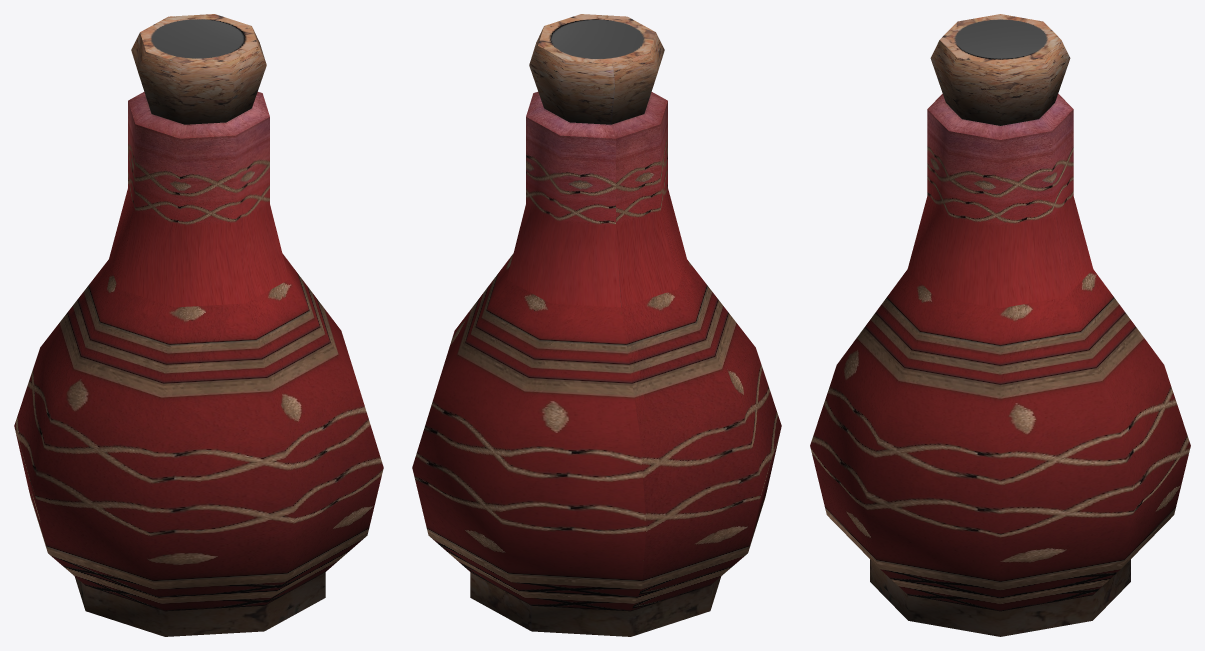
File: bottle_thumbnail.obj
3 views of the same model, side by side, from view 1: azimuth 30°, elevation 25°; view 2: azimuth 150°, elevation 25°; view 3: azimuth 270°, elevation 25° (orthographic).
Parts seen in each view (by area): view 1: small_health_poti_Cylinder.000; view 2: small_health_poti_Cylinder.000; view 3: small_health_poti_Cylinder.000.
Part boxes in pixels (x1,y1,x2,y2): small_health_poti_Cylinder.000: (14, 14, 383, 636); small_health_poti_Cylinder.000: (412, 14, 781, 636); small_health_poti_Cylinder.000: (810, 14, 1190, 636).
Size of the model in its own units: 0.2849 by 0.4474 by 0.2849.
